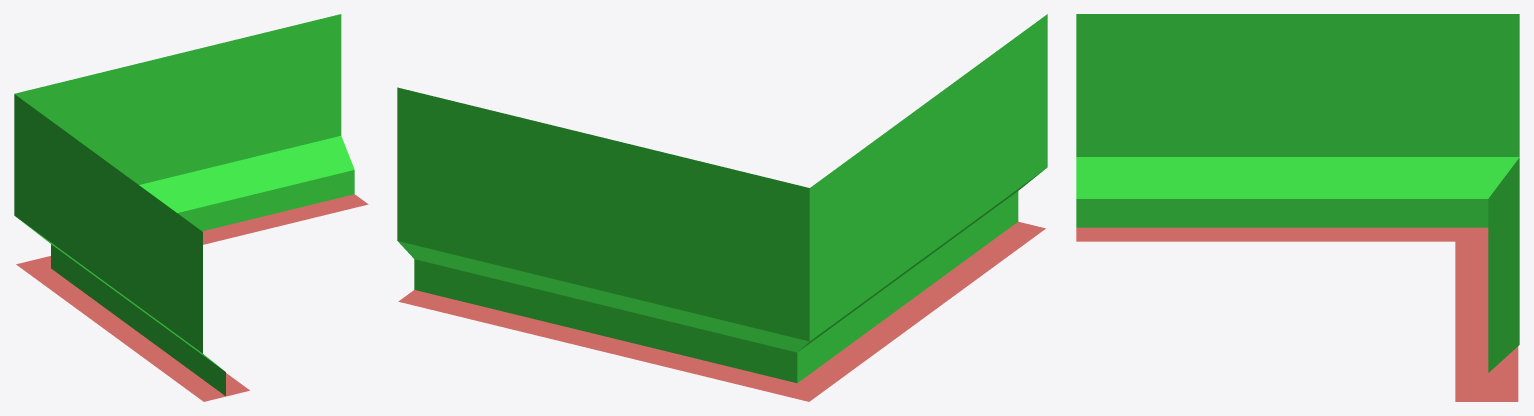
Rendered from Extra_Corner_Wall.fbx.
The picture shows the model from 3 angles, left to right: view 1: azimuth 30°, elevation 25°; view 2: azimuth 150°, elevation 25°; view 3: azimuth 270°, elevation 25°; orthographic projection. The views are drawn at different scales.
Visible parts, largest first — view 1: Wall.008; view 2: Wall.008; view 3: Wall.008.
Boxes of the visible parts, <box> form: Wall.008: <box>14,14,368,401</box>; Wall.008: <box>397,14,1047,401</box>; Wall.008: <box>1076,14,1519,401</box>.
Size of the model in its own units: 1406 by 700 by 1405.
